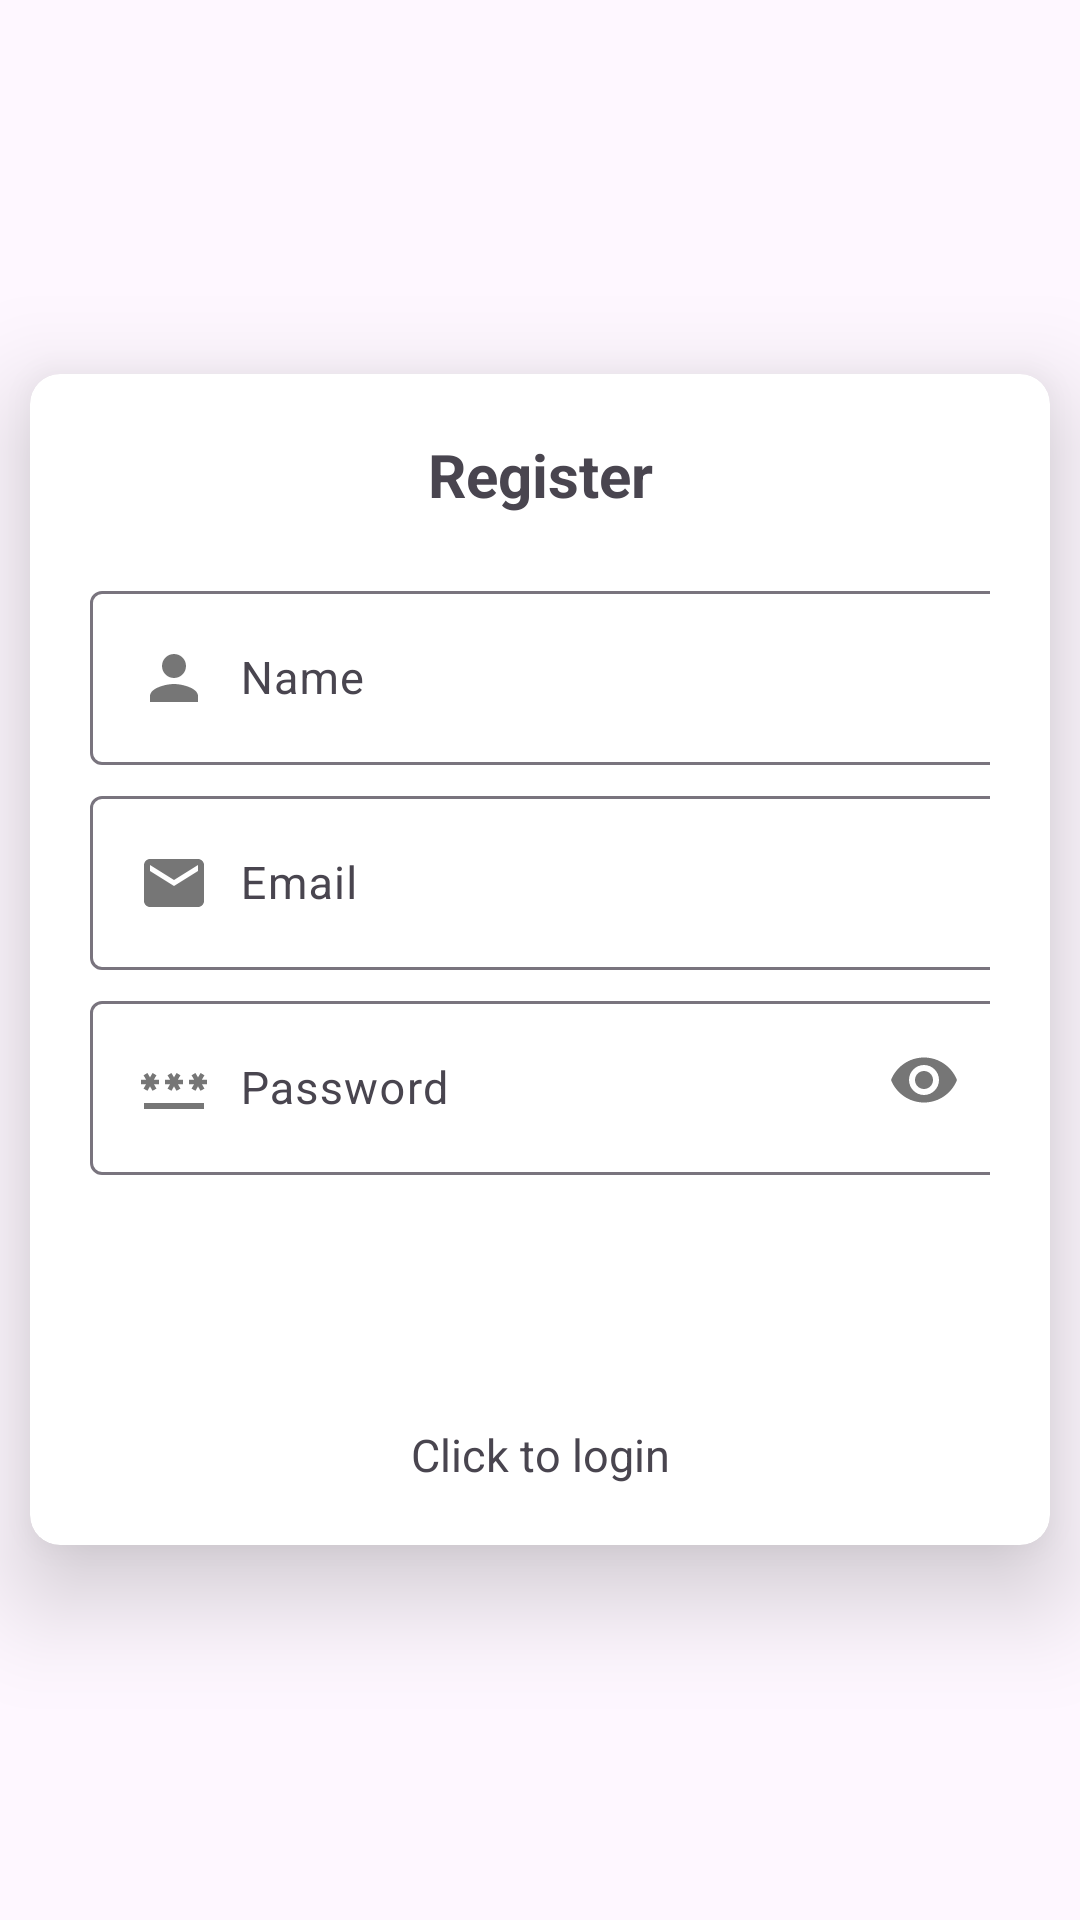

Screen size 1080x1920. Icon name, then its center in pixels as point (x, y):
eye: point (924, 1080)
